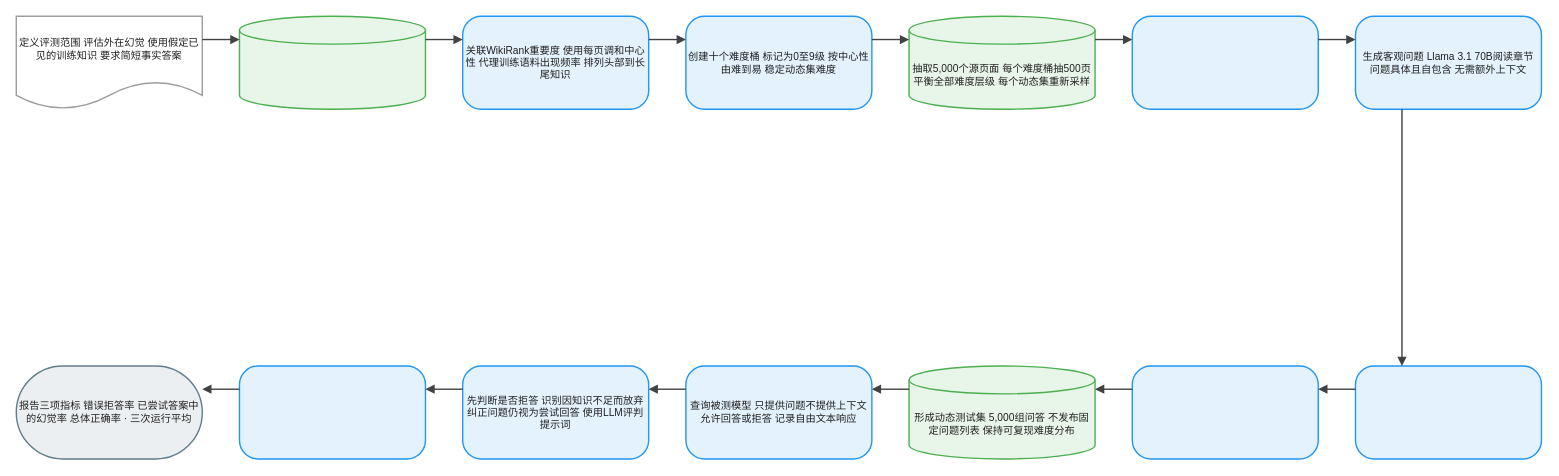
Image size: 1559x476. Some labels were removed from this diagram. Each missing label, with the centre of its shape:
"从GoodWiki开始 44,754个高质量维基页面 覆盖广泛主题与事实内容 使用公开可复现来源池" belongs at pixel 332 62.
"判断已尝试答案 响应与标准答案比较 正确 · 错误 · 不可验证 后两类均视为幻觉" belongs at pixel 332 412.
"执行问答质量约束 答案为词或短语 删除超过十词的答案 无法回答则重新生成问题" belongs at pixel 1225 412.
"独立生成标准答案 基于同一参考章节作答 分开问题与答案生成阶段 减少答案对问题措辞泄露" belongs at pixel 1448 412.
"选择参考章节 把百科页面切为章节 随机选取一个章节 推理时不提供该来源" belongs at pixel 1225 62.
